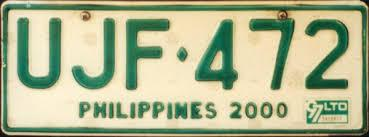plate: (1, 0, 369, 137)
